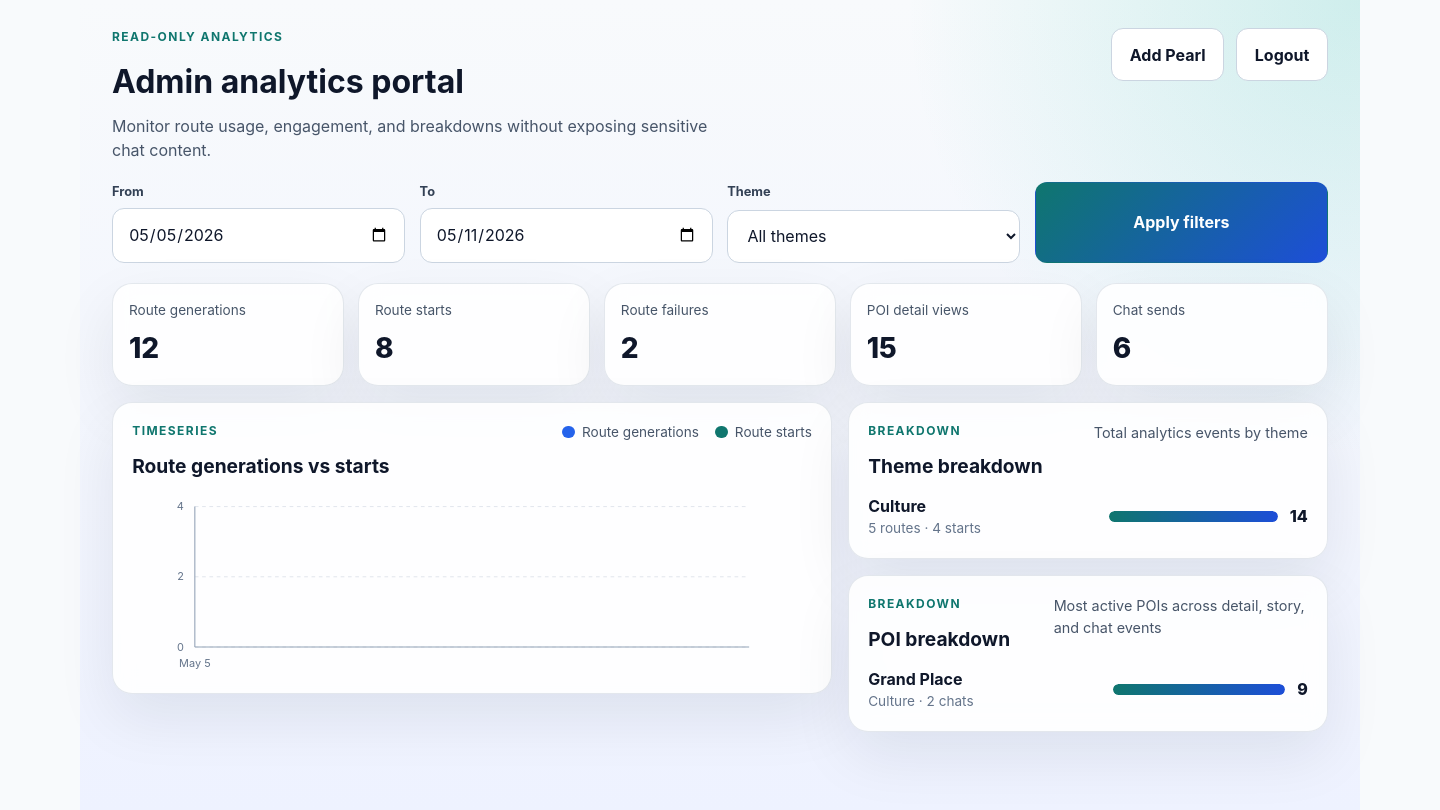
Test: AdminPage › refreshes analytics queries when the date filter is applied
Expected: the heading "Route generations vs starts" is shown, x1=132 y1=452 x2=390 y2=480
Type "2026-03-01" into the date field labelled "From" at [259, 235], box x1=112 y1=208 x2=405 y2=263
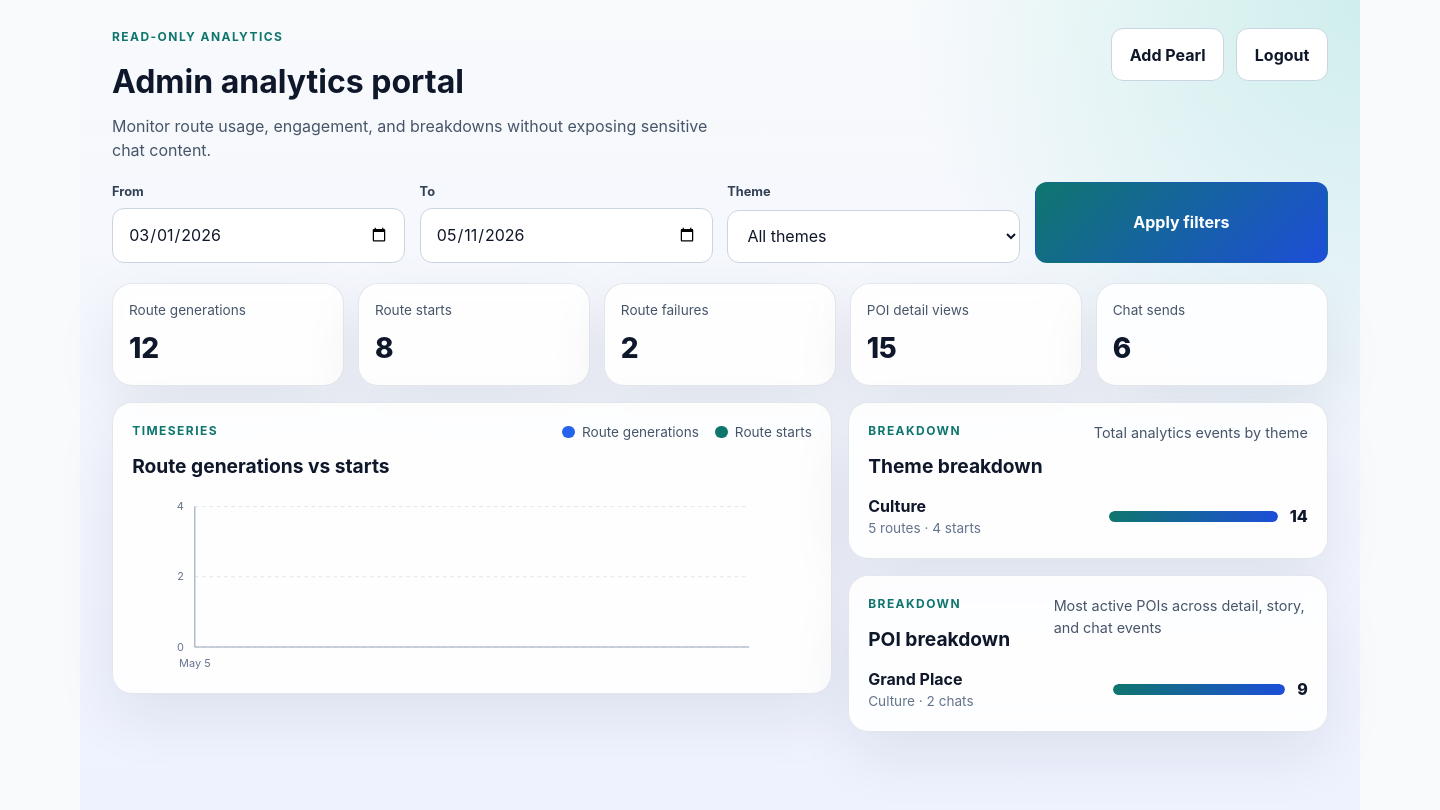
Type "2026-03-05" into the date field labelled "To" at [566, 235], box x1=420 y1=208 x2=713 y2=263
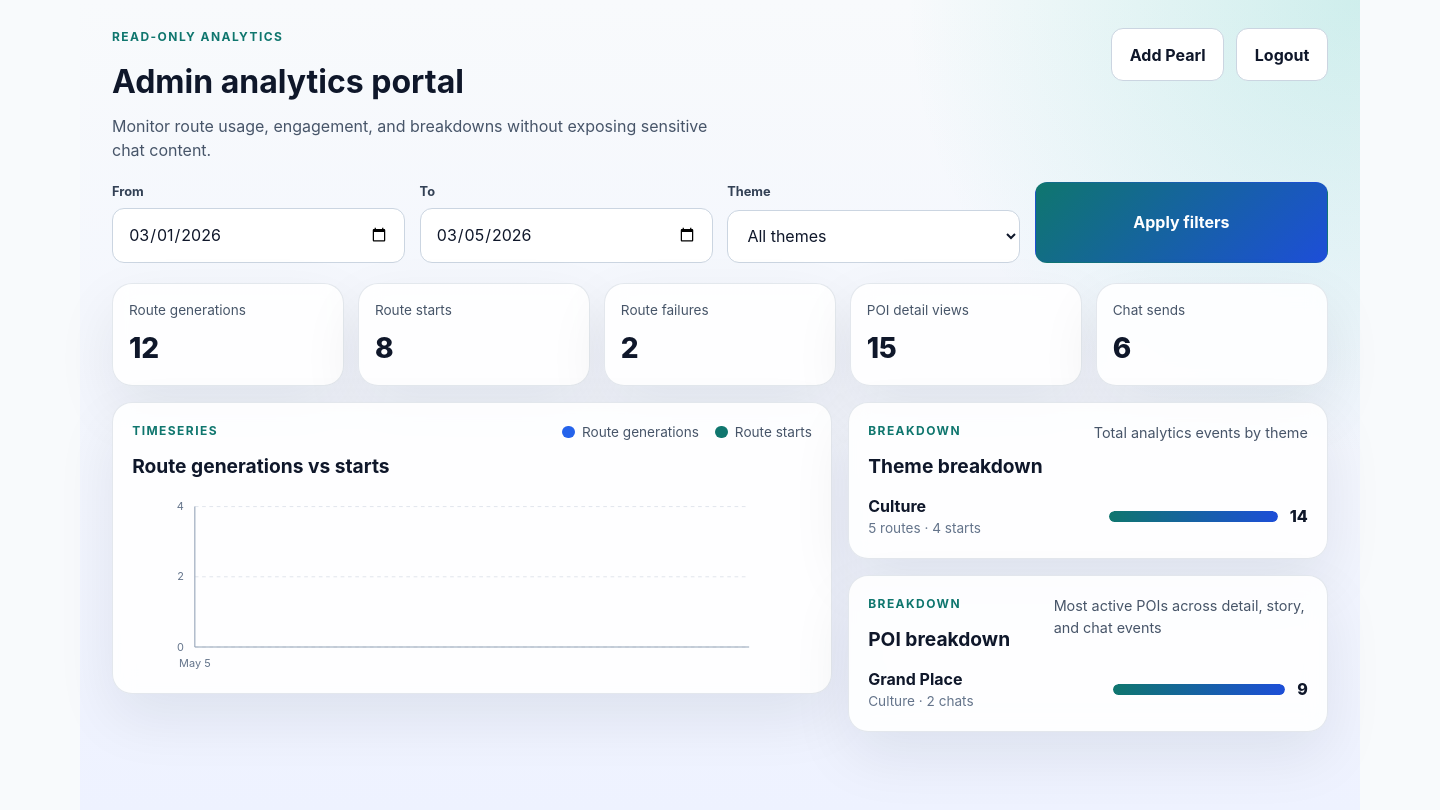
Click the button "Apply filters" at [1181, 222], box x1=1035 y1=182 x2=1328 y2=263
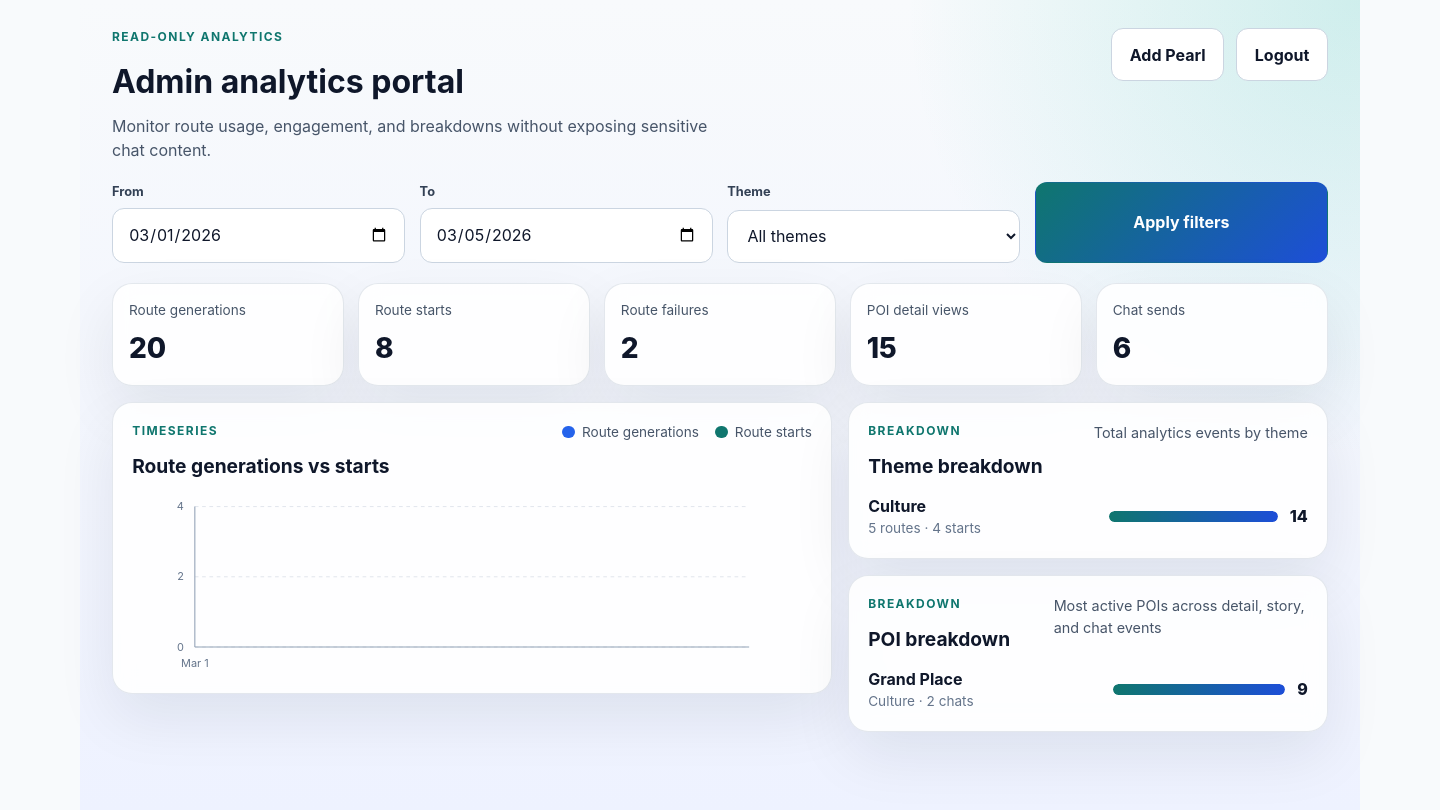
Result: the text "20" is shown at x1=129 y1=330 x2=166 y2=364
